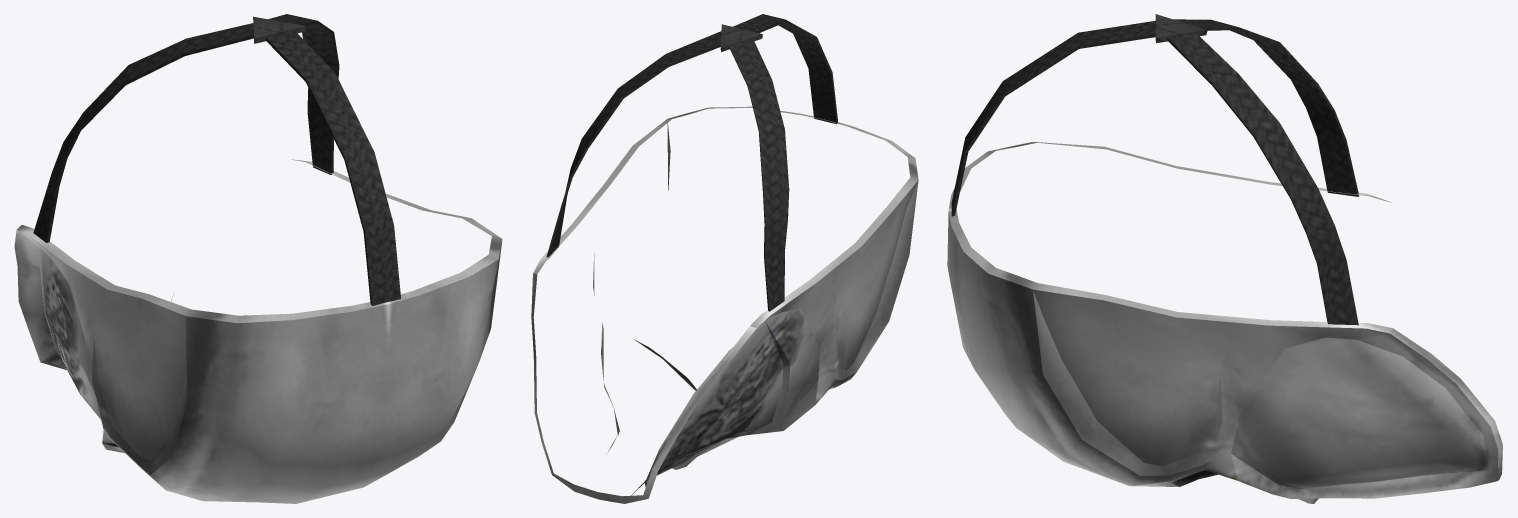
File: alien.glb
3 renders of one model, left to right at view 1: azimuth 30°, elevation 25°; view 2: azimuth 150°, elevation 25°; view 3: azimuth 270°, elevation 25°, orthographic. The views are drawn at different scales.
Visible parts, largest first — view 1: Paradox; view 2: Paradox; view 3: Paradox.
Part boxes in pixels (bbox=[...]): Paradox: bbox=[14, 14, 502, 503]; Paradox: bbox=[531, 14, 918, 503]; Paradox: bbox=[947, 14, 1502, 503].
Size of the model in its own units: 0.1752 by 0.2513 by 0.2676.
1 material, 1 textured.
